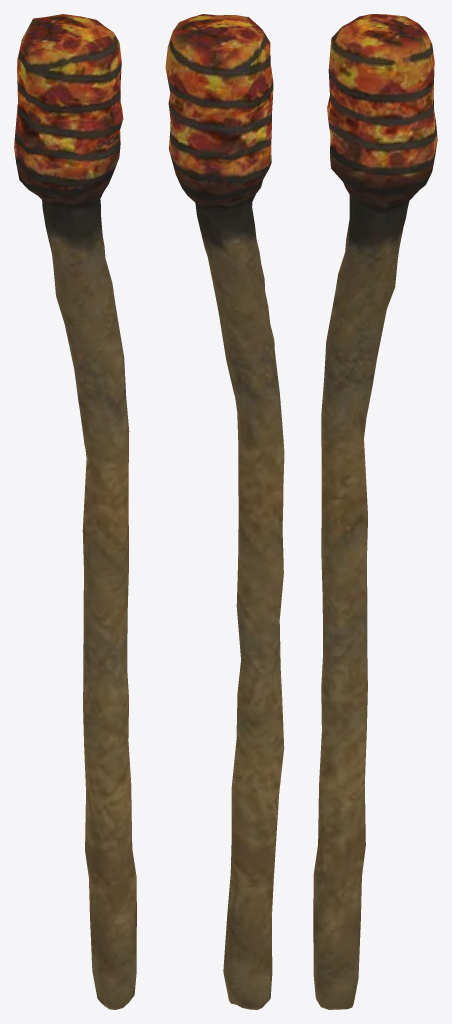
File: torch.glb
3 renders of one model, left to right at view 1: azimuth 90°, elevation 25°; view 2: azimuth 150°, elevation 25°; view 3: azimuth 270°, elevation 25°, orthographic. The views are drawn at different scales.
Visible parts, largest first — view 1: torchstick; view 2: torchstick; view 3: torchstick.
Boxes of the visible parts, x1=… form: torchstick: x1=14, y1=14, x2=136, y2=1009; torchstick: x1=165, y1=14, x2=284, y2=1009; torchstick: x1=313, y1=14, x2=437, y2=1009.
Bounding box in the file's own units: 0.139 × 1.45 × 0.1663.
1 material, 1 textured.
